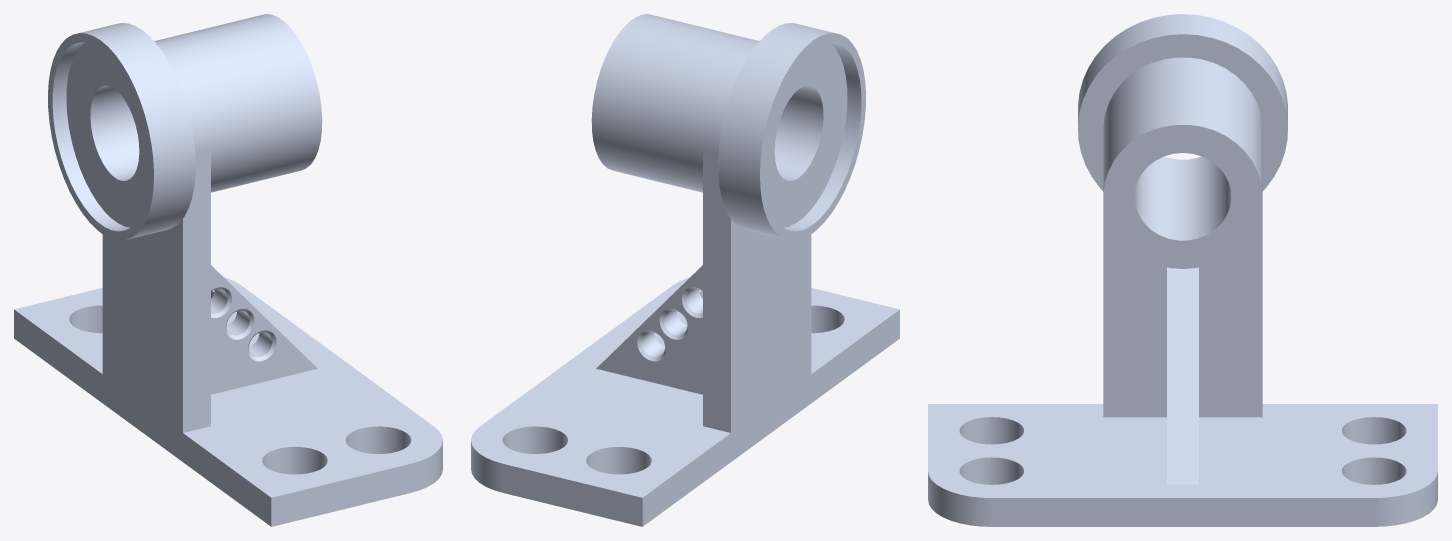
Rendered from Front_Support_Bracket.gltf.
3 renders of one model, left to right at view 1: azimuth 30°, elevation 25°; view 2: azimuth 150°, elevation 25°; view 3: azimuth 270°, elevation 25°, orthographic.
Parts seen in each view (by area): view 1: Front Holder-1, Support Bracket - Base-1, Support Bracket - Web-1; view 2: Front Holder-1, Support Bracket - Base-1, Support Bracket - Web-1; view 3: Front Holder-1, Support Bracket - Base-1, Support Bracket - Web-1.
Part boxes in pixels (bbox=[...]): Front Holder-1: bbox=[48, 14, 322, 461]; Support Bracket - Base-1: bbox=[14, 277, 442, 526]; Support Bracket - Web-1: bbox=[211, 265, 317, 394]; Front Holder-1: bbox=[591, 14, 865, 461]; Support Bracket - Base-1: bbox=[471, 277, 899, 526]; Support Bracket - Web-1: bbox=[596, 265, 702, 394]; Front Holder-1: bbox=[1078, 14, 1287, 417]; Support Bracket - Base-1: bbox=[928, 404, 1437, 526]; Support Bracket - Web-1: bbox=[1167, 267, 1198, 484].
Size of the model in its own units: 0.054 by 0.0876 by 0.1016.
